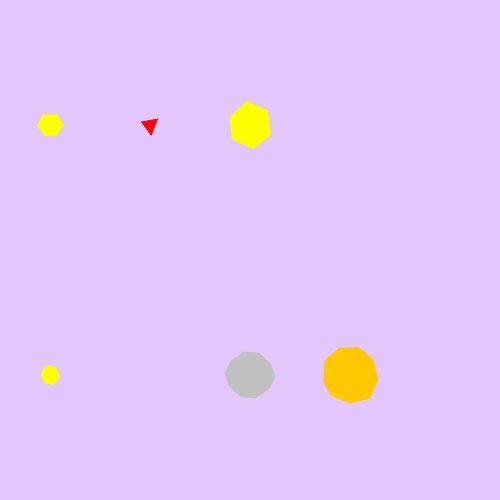decagon: (221, 349, 279, 402)
hexagon: (222, 102, 278, 148), (33, 110, 68, 140), (35, 362, 65, 388)
nonagon: (318, 344, 383, 406)
triangle: (138, 112, 163, 138)
